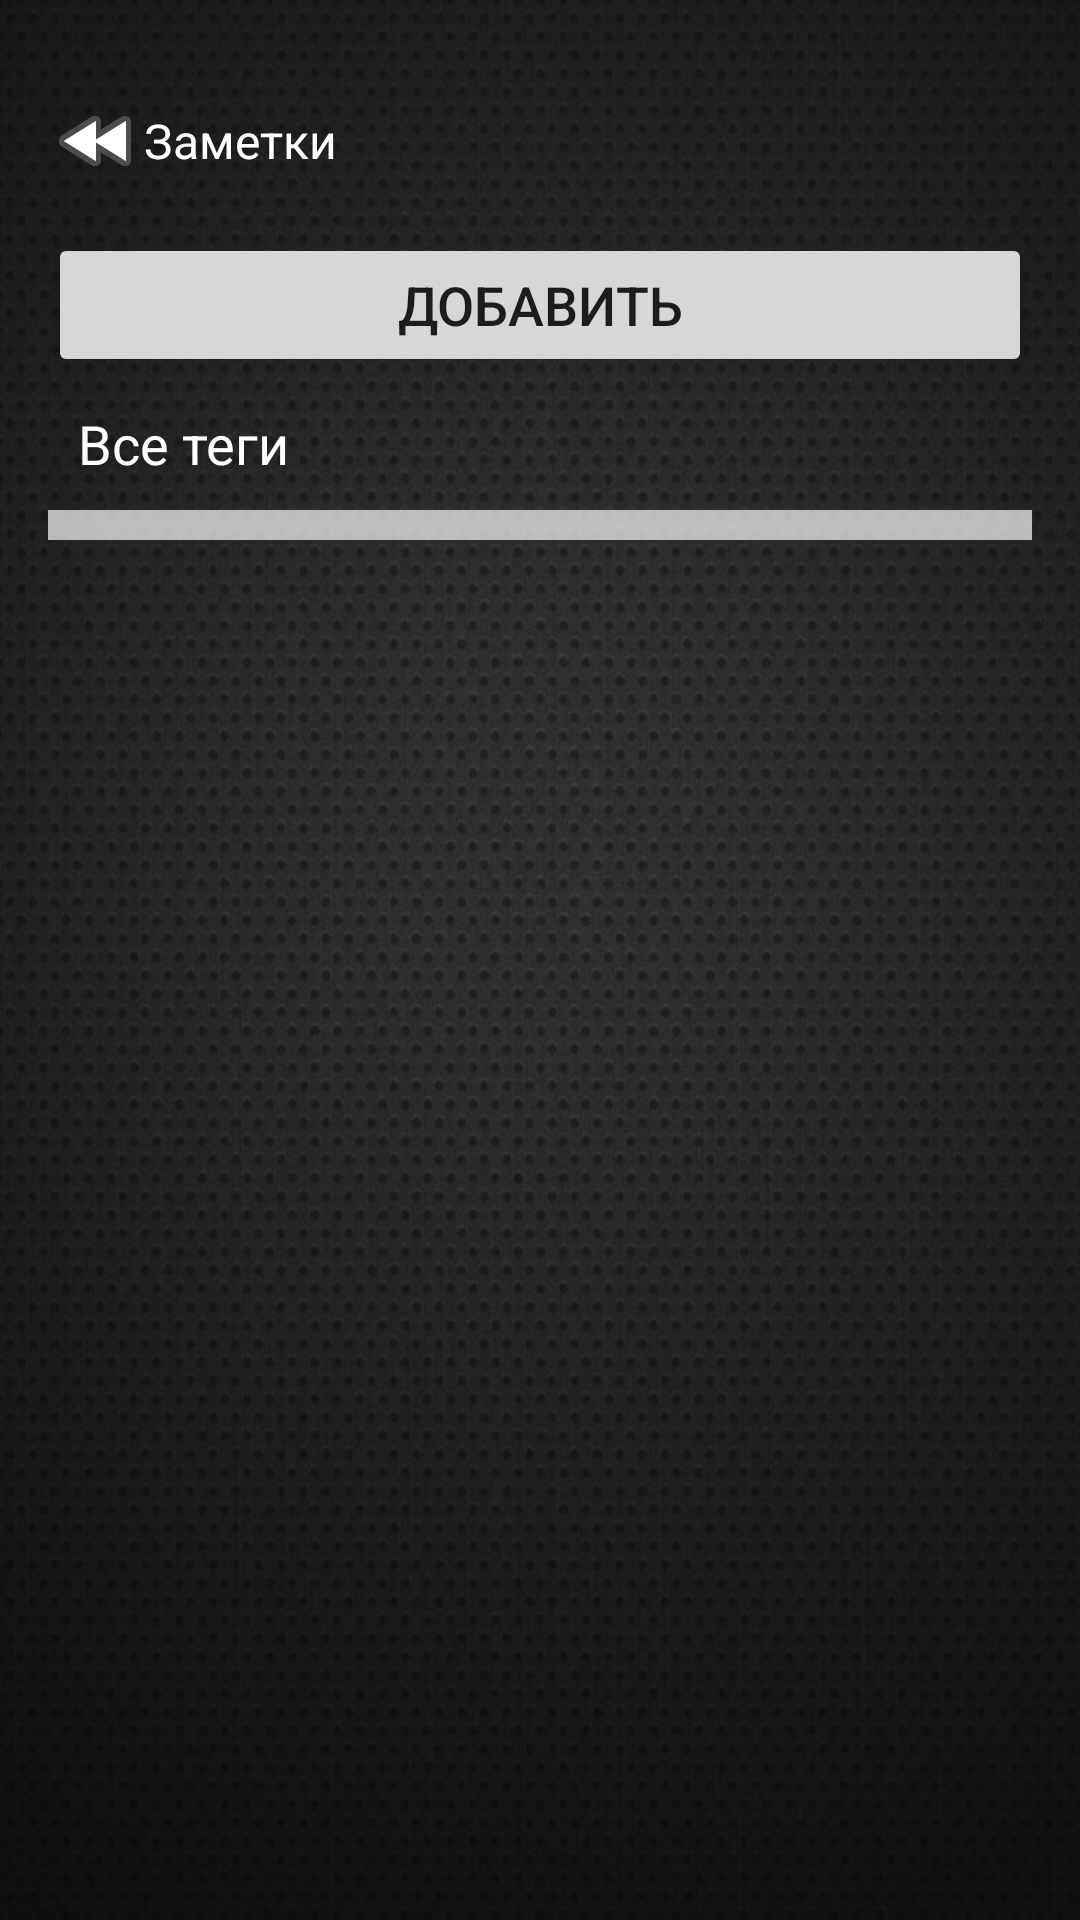

Locate icon controls on the screen. Image size 1080x1920, boxes as {"x1": x1, "y1": y1, "x2": x2, "y2": y2}.
rew: {"x1": 59, "y1": 116, "x2": 131, "y2": 166}
